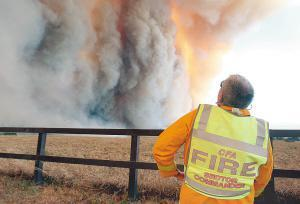fire: (170, 10, 215, 84)
